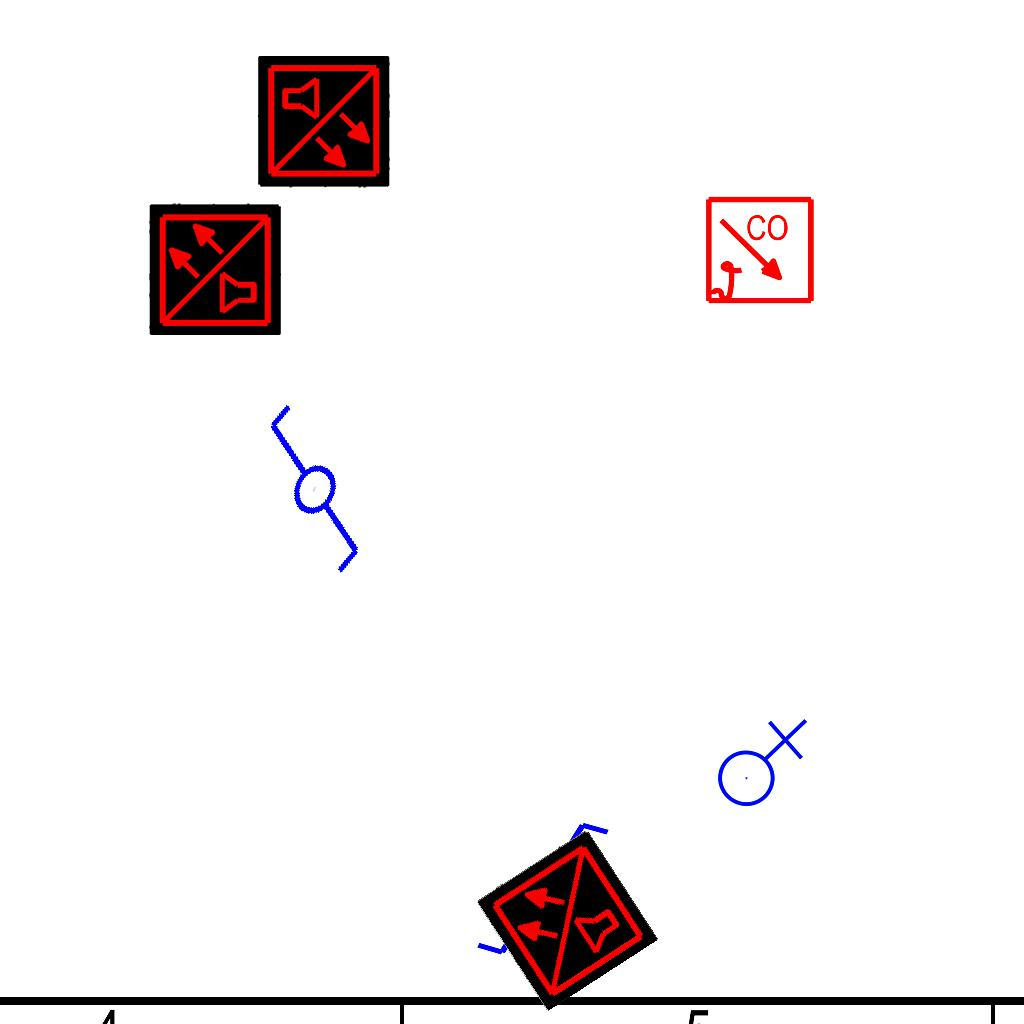Elektroanschluss_allgemein_230V_Geraeteanschlussdose_230V: (709, 714, 808, 808)
OKW_Multisensormelder_(Kombination_optischer_Rauch-Kahlenmonoxid_Waerme-Melder): (475, 828, 659, 1012), (258, 56, 390, 188), (149, 203, 281, 335)
ROA_Rauchmelder_optisch_mit_Signalgeber_(Sockelsirene): (704, 195, 817, 308)
Wechselschalter: (211, 395, 408, 597), (473, 818, 630, 962)
